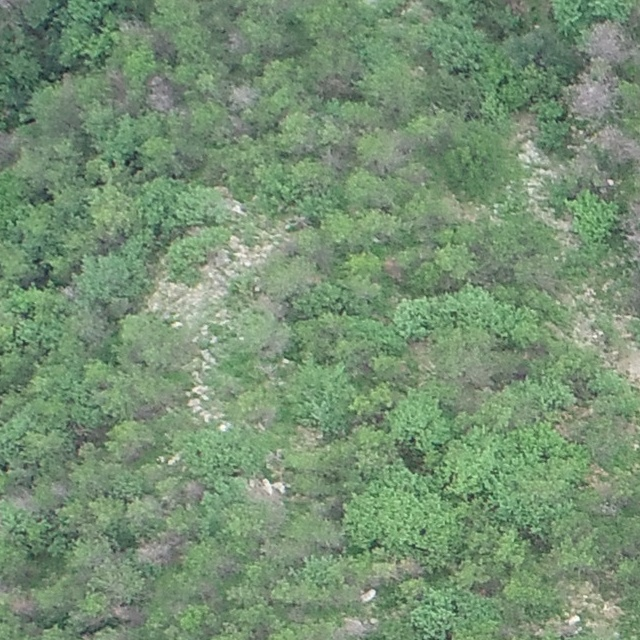unhealthy: (583, 19, 631, 65), (567, 78, 616, 117), (593, 123, 639, 164), (135, 532, 185, 566), (142, 72, 177, 114), (102, 65, 130, 107), (621, 197, 639, 259), (315, 72, 357, 96), (338, 615, 373, 640), (228, 82, 259, 108), (108, 600, 143, 623), (321, 144, 350, 171), (0, 125, 18, 166), (8, 594, 38, 618), (394, 556, 425, 578), (381, 254, 406, 281), (182, 478, 206, 502), (225, 114, 250, 137), (224, 28, 247, 53), (48, 478, 70, 501)
